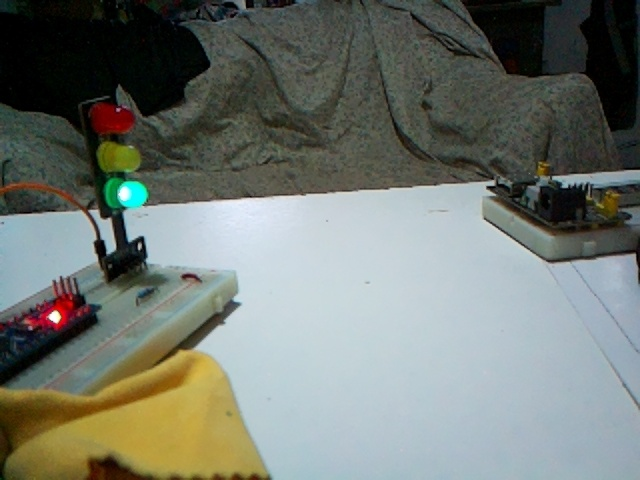traffic_light_green: (81, 97, 149, 275), (80, 97, 148, 210)
